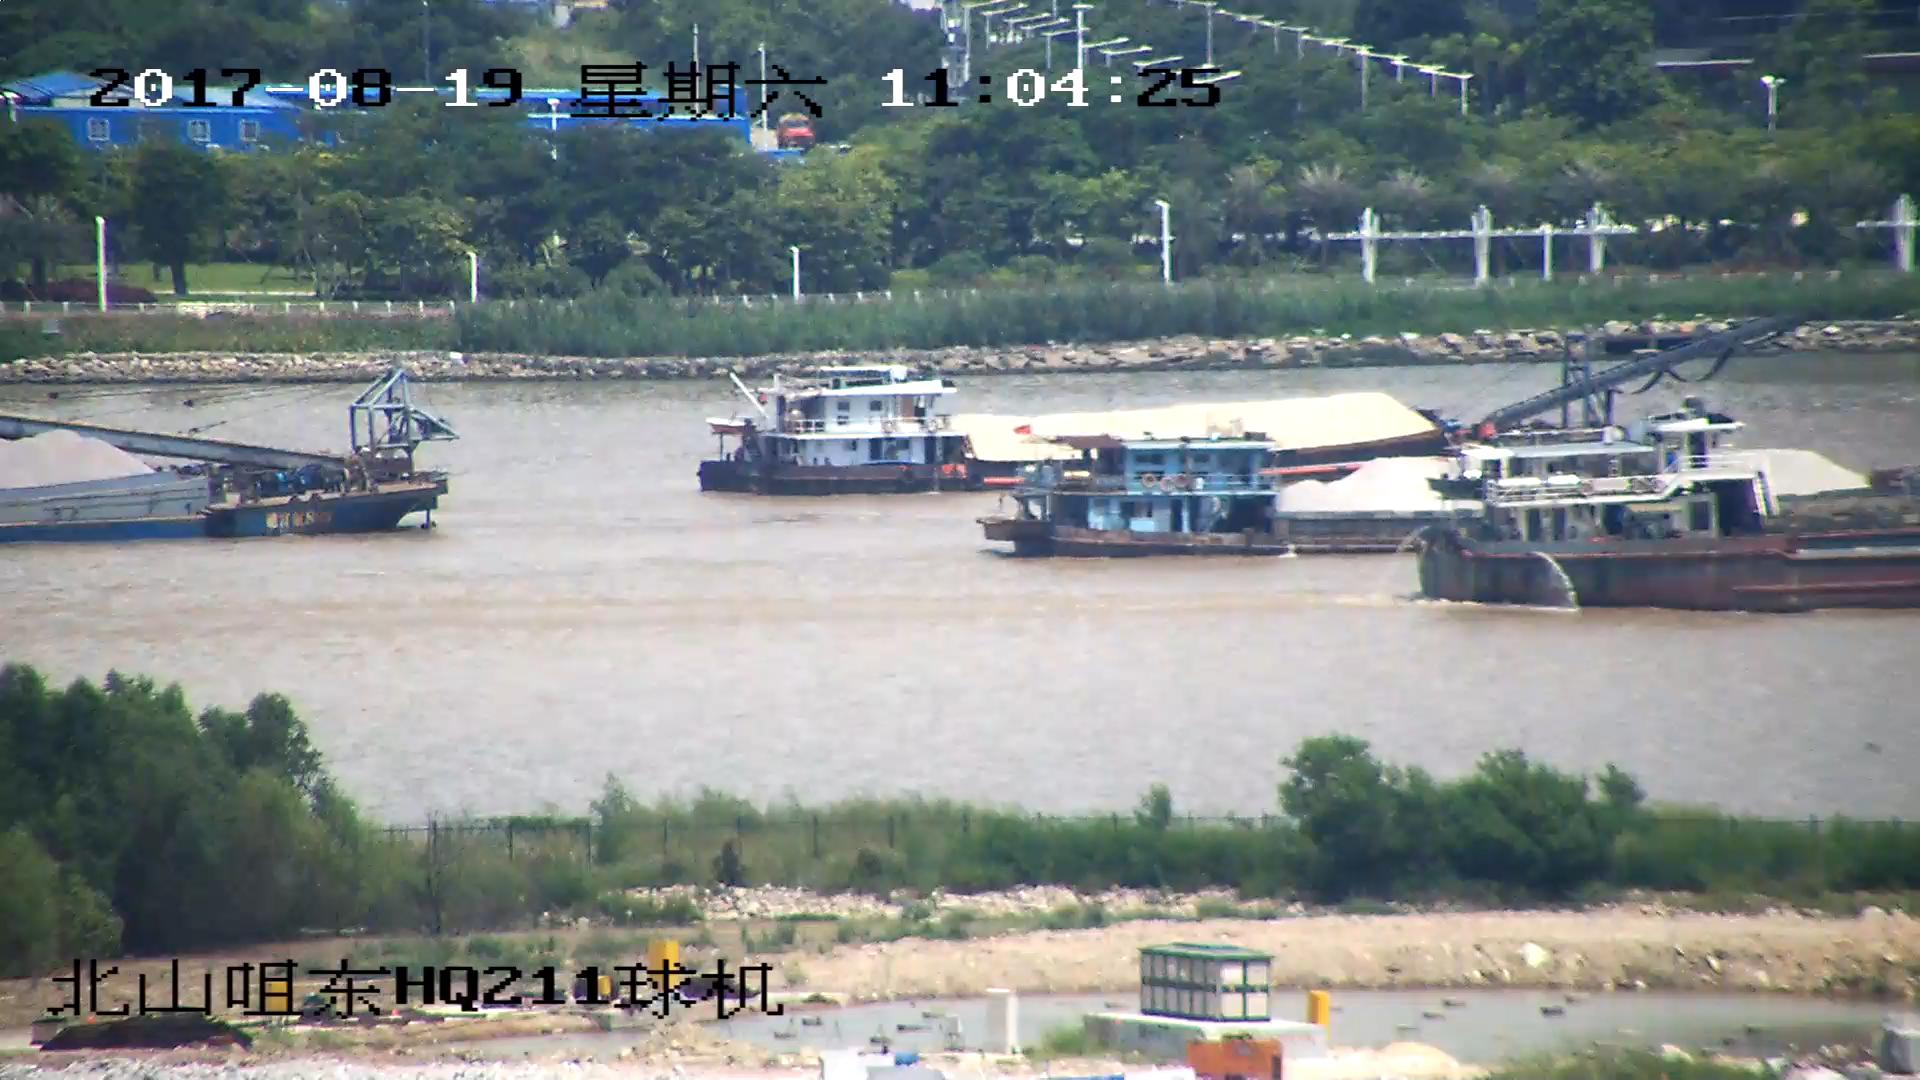bulk cargo carrier: (1432, 459, 1920, 617)
ore carrier: (701, 320, 1793, 501), (983, 438, 1920, 559), (1, 369, 459, 546)
